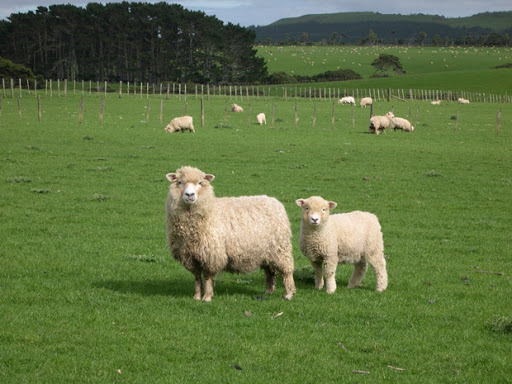koyun: (167, 165, 298, 300), (296, 196, 391, 297), (370, 112, 394, 134)
